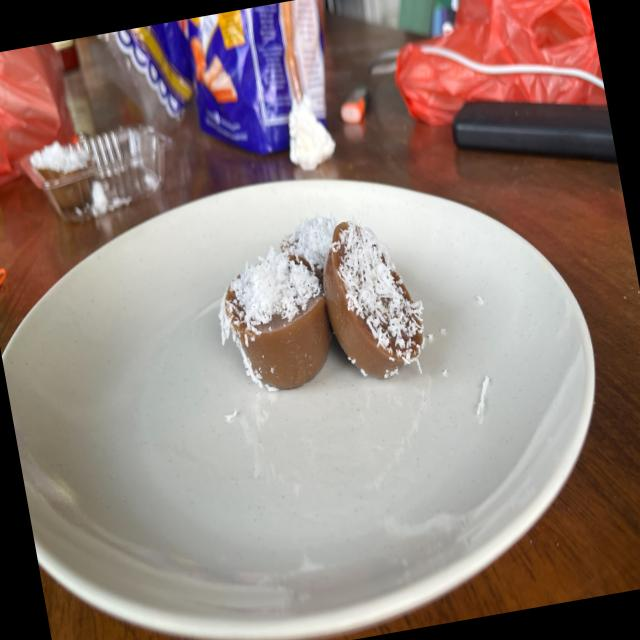Kuih lompang: (322, 217, 424, 378), (219, 247, 331, 389), (280, 214, 336, 284)
